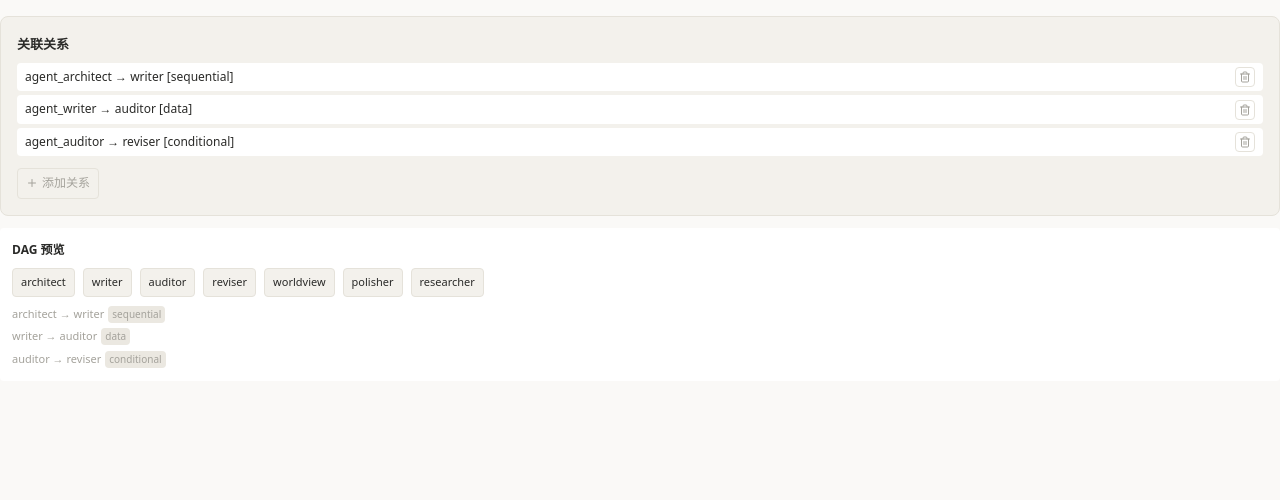
Test case: AgentRelationEditor — F46 #270 新增关系 + 预检（spec §5.2） › 重复边预检：已存在同 from/to → 提示「已存在」，不提交
Step 1. Click the button with test id "agent-relation-add" → click(58, 184), box [17,168,99,199]
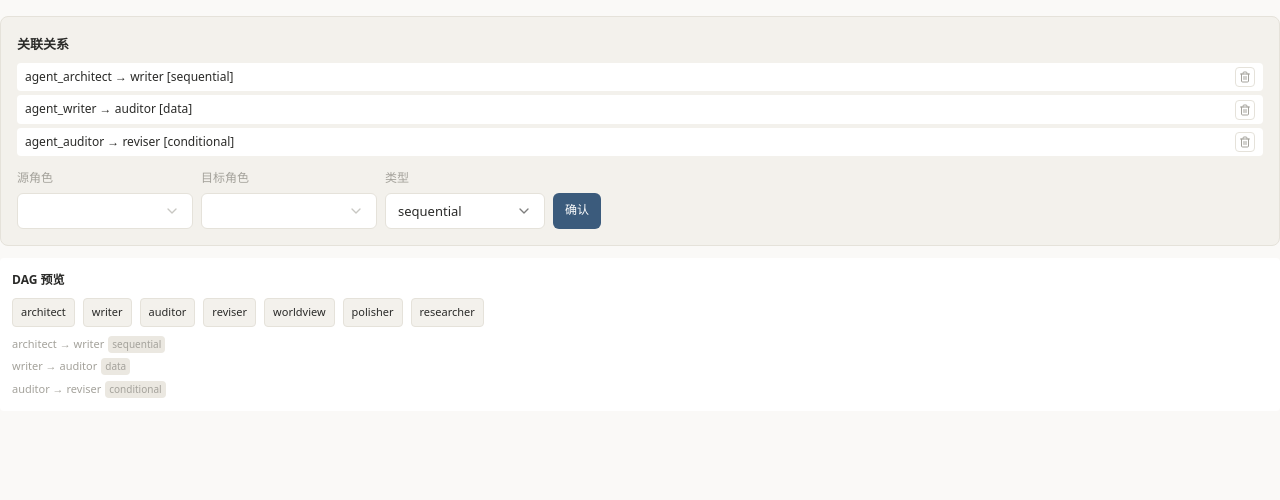
Step 2. Click the dropdown with test id "agent-relation-from-select" → click(105, 211), box [17,193,193,229]
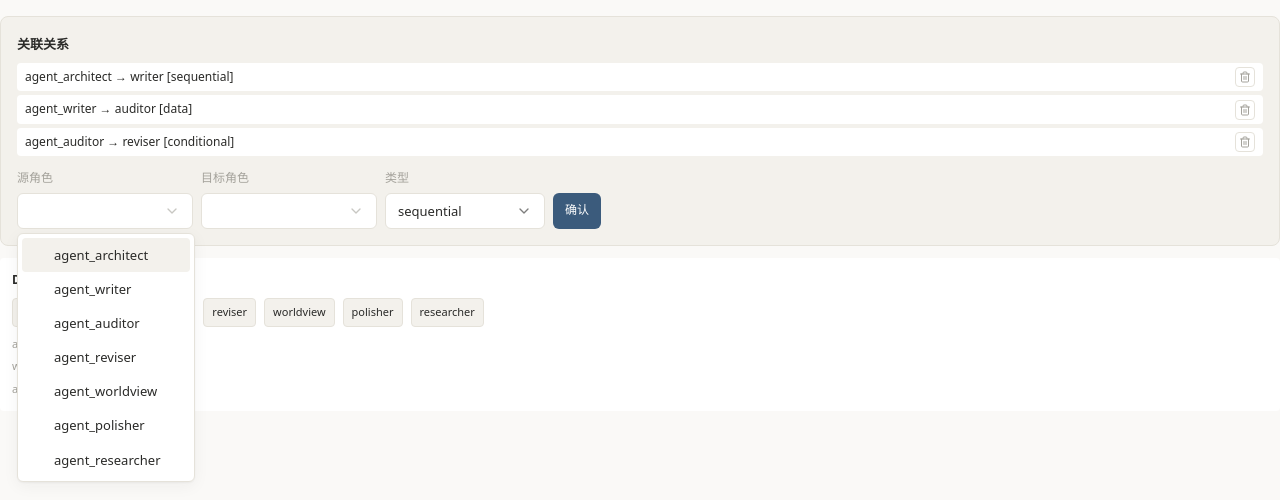
Step 3. Click the option "agent_architect" → click(106, 255), box [22,238,190,272]
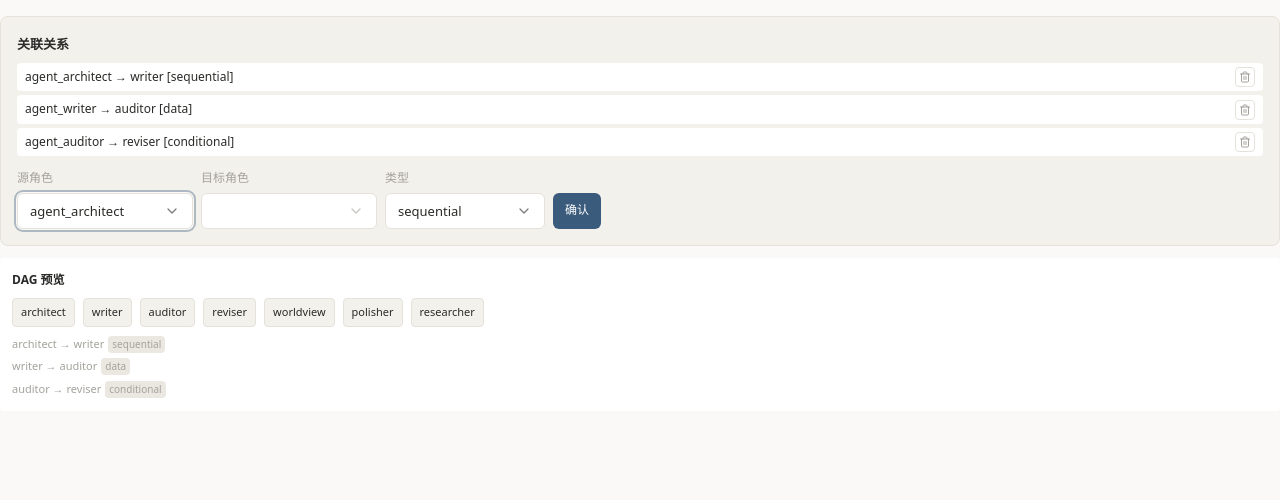
Step 4. Click the dropdown with test id "agent-relation-to-select" → click(289, 211), box [201,193,377,229]
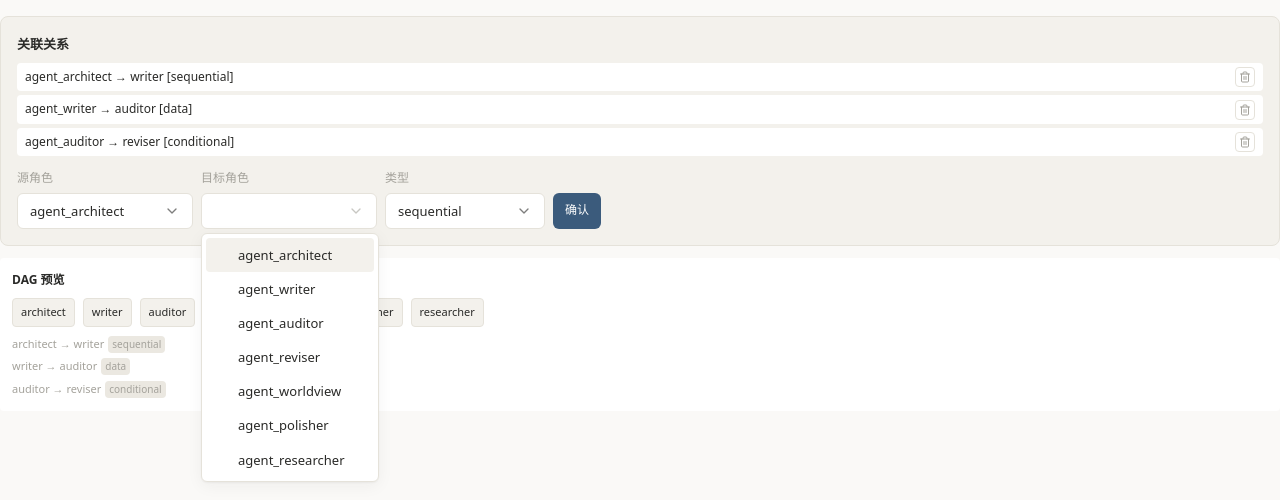
Step 5. Click the option "agent_writer" → click(277, 289), box [238,280,316,298]
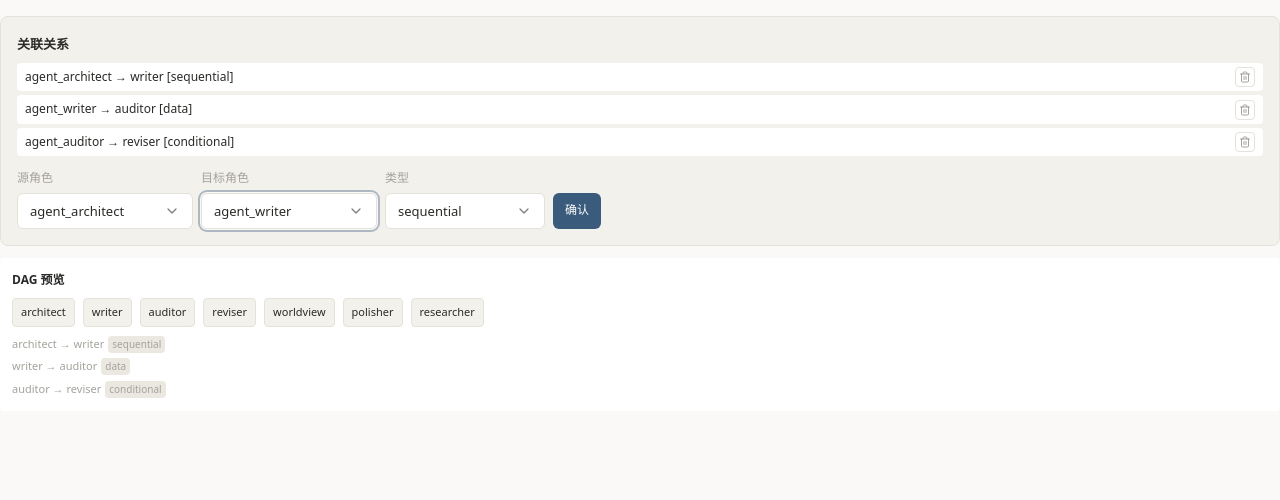
Step 6. Click the button with test id "agent-relation-confirm" → click(577, 211), box [553,193,601,229]
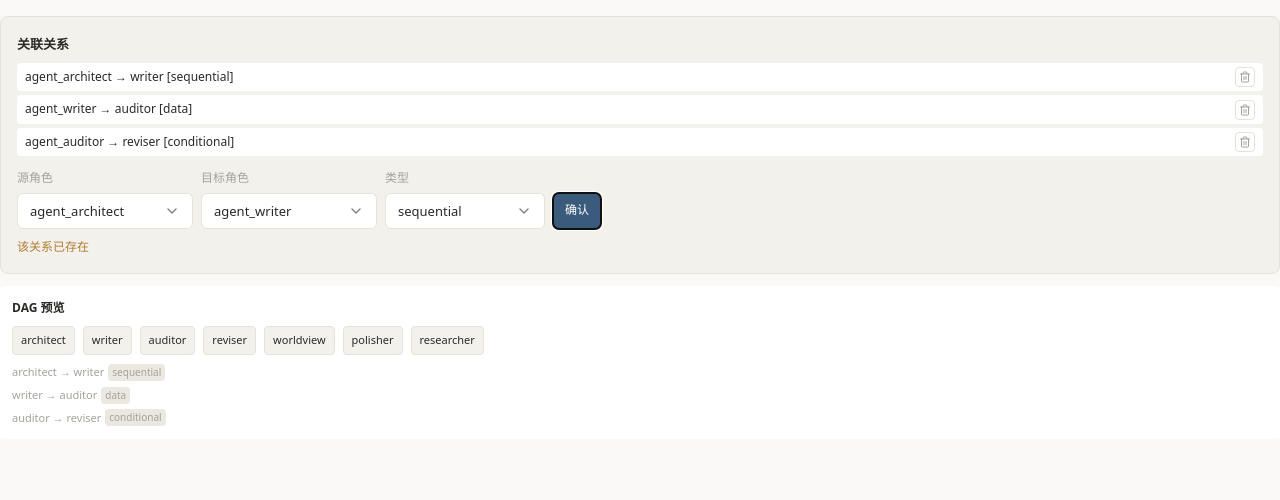
Result: the text with test id "agent-relation-error" shows "已存在" at [17,238,89,255]
